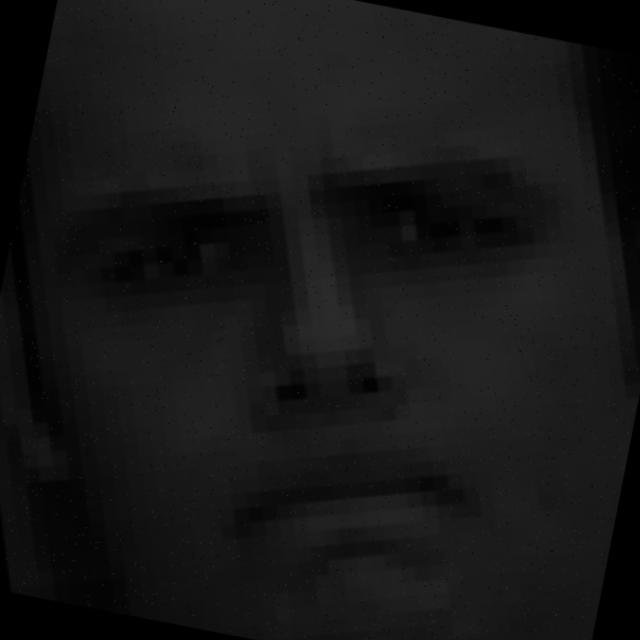Disgust: (6, 79, 635, 616)
